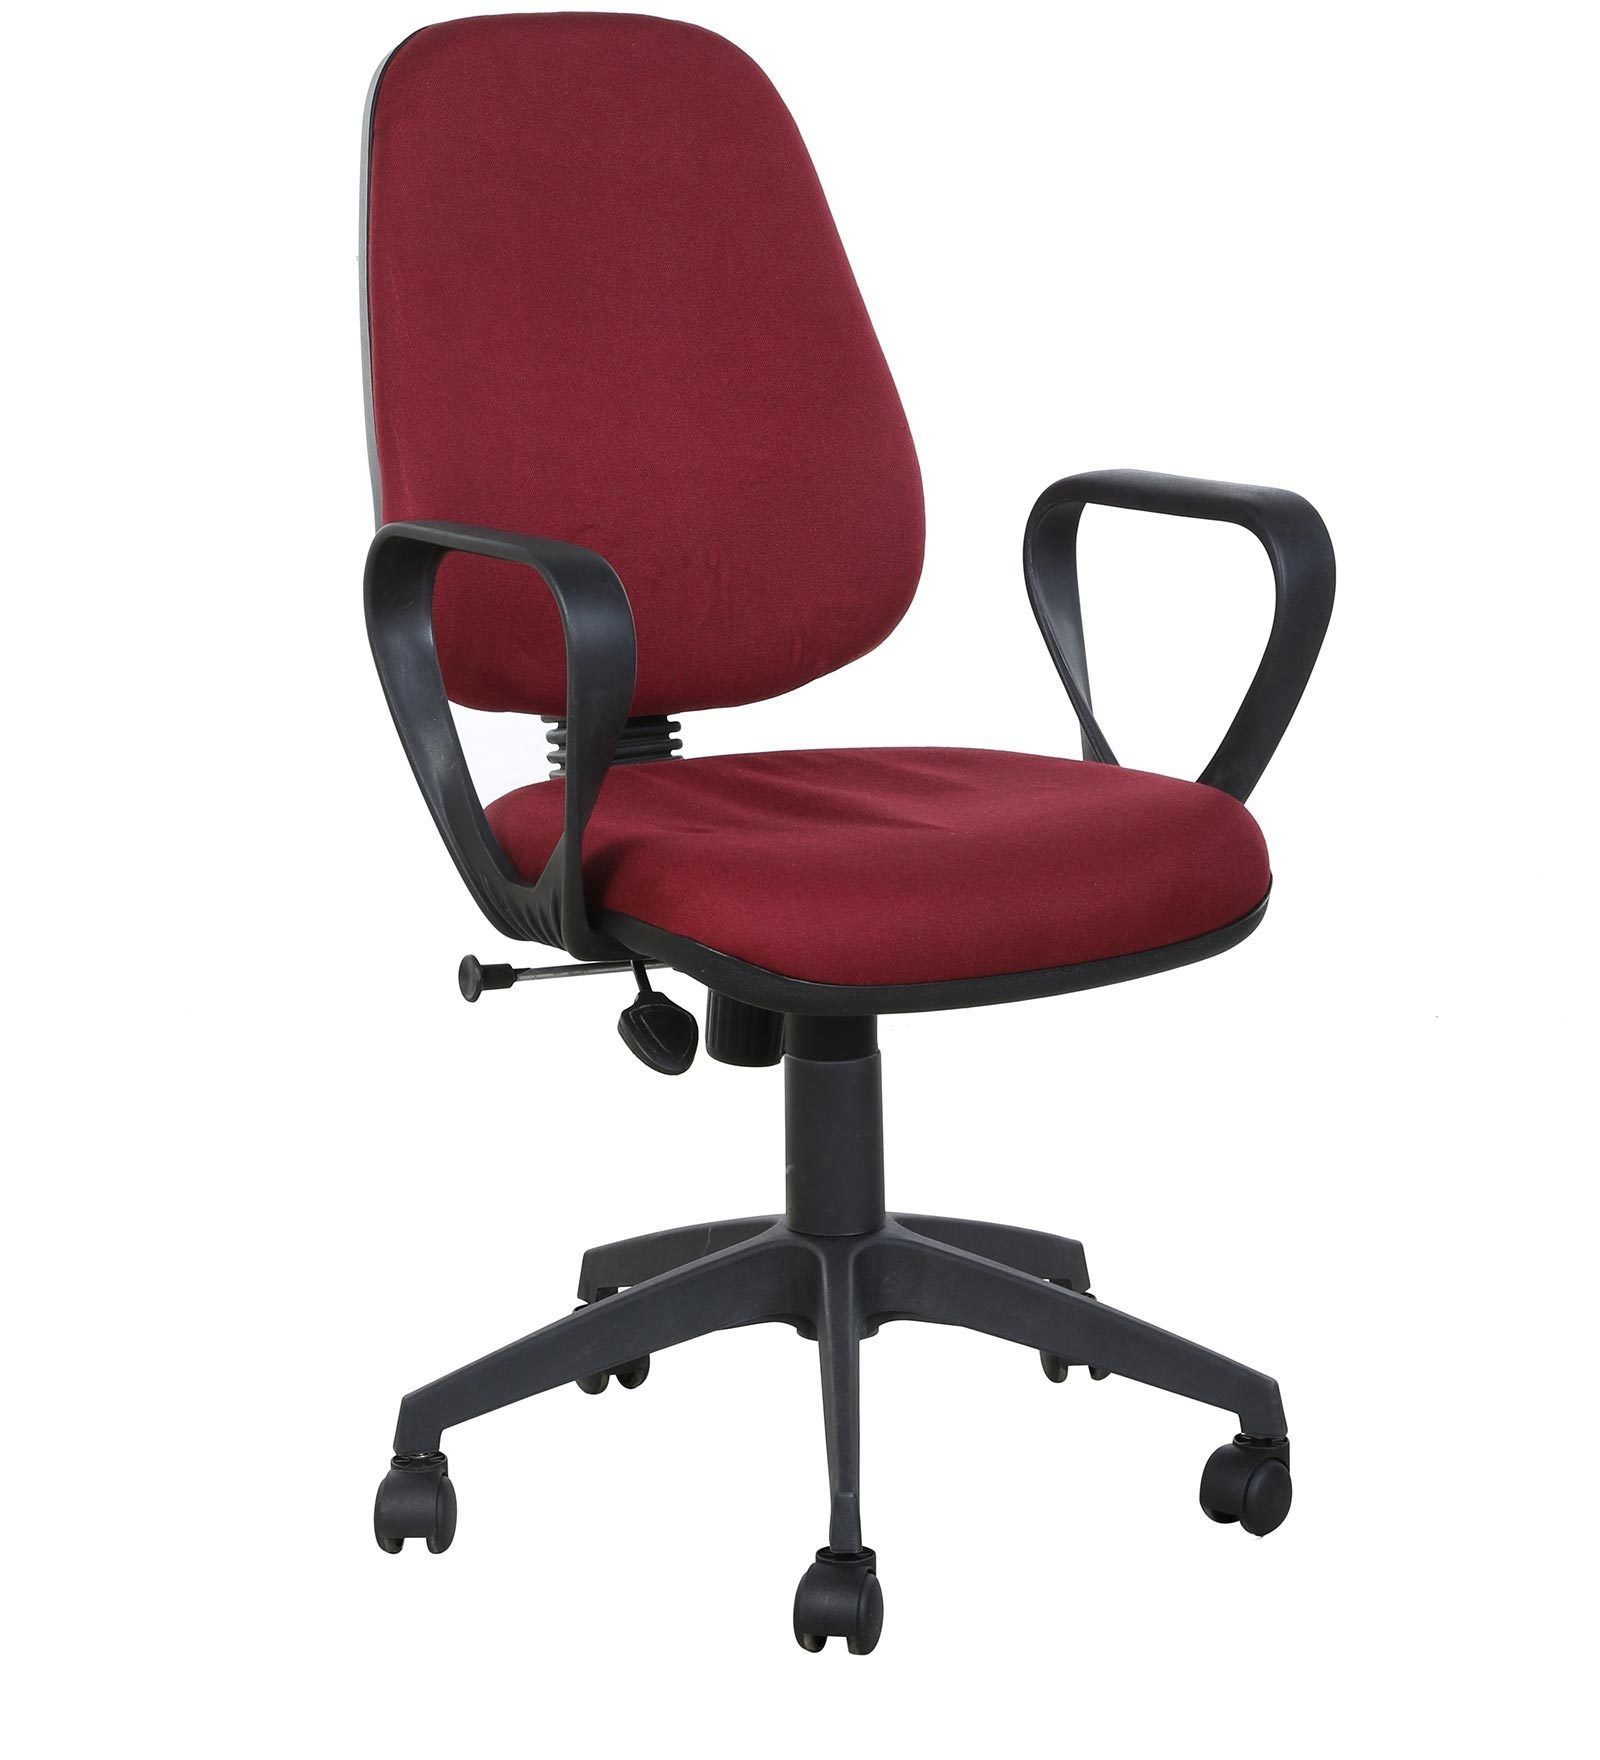Star Ergonomic Chair in Maroon Colour by Parin: (277, 11, 1434, 1709)
